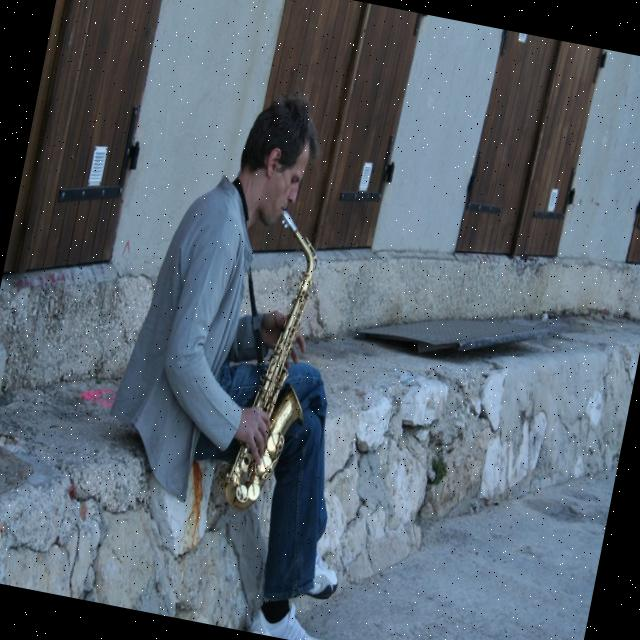saxophone: (217, 205, 346, 522)
